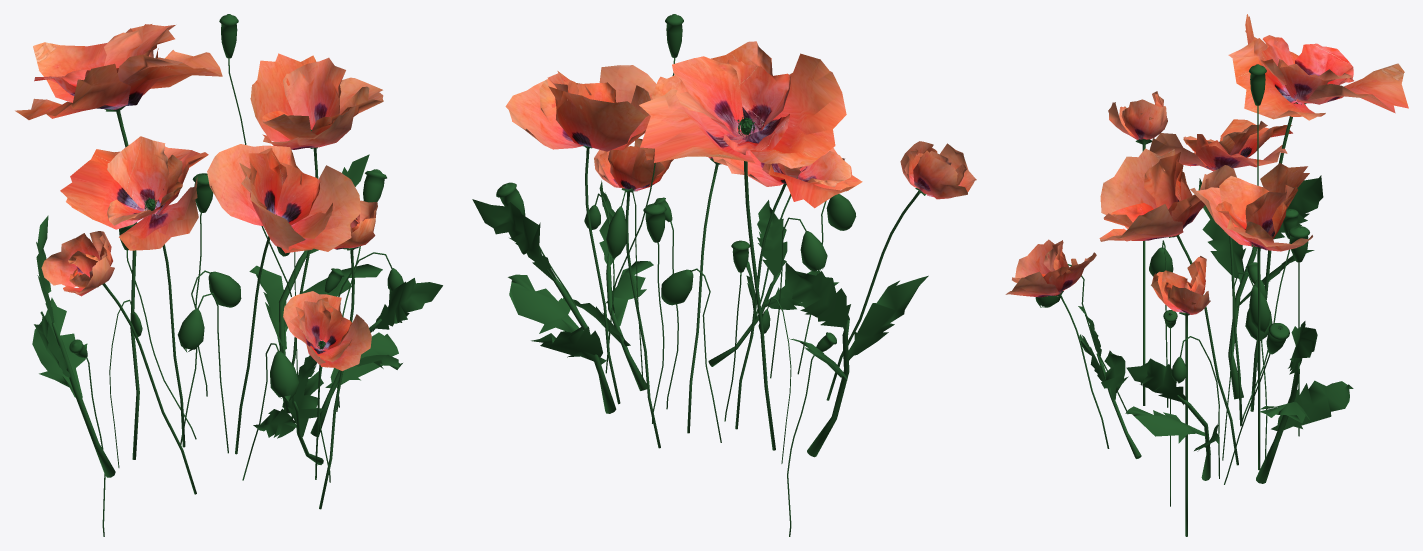
The model's file is Ko'knor.fbx.
The picture shows the model from 3 angles, left to right: view 1: azimuth 30°, elevation 25°; view 2: azimuth 150°, elevation 25°; view 3: azimuth 270°, elevation 25°; orthographic projection. The views are drawn at different scales.
Parts seen in each view (by area): view 1: maki.001; view 2: maki.001; view 3: maki.001.
Boxes of the visible parts, box(x1,y1,x2,y2) form: maki.001: box(15, 14, 442, 536); maki.001: box(472, 14, 976, 536); maki.001: box(1005, 14, 1408, 536).
Bounding box in the file's own units: 4578 × 5244 × 4147.
Materials: 5 (5 with a texture image).
